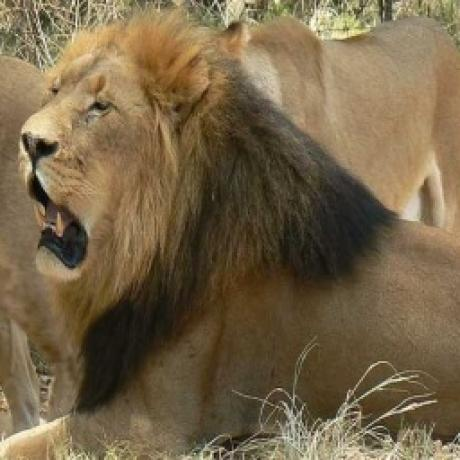Lion: (0, 7, 460, 460)
